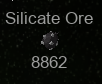Silicate: (4, 11, 93, 72)
